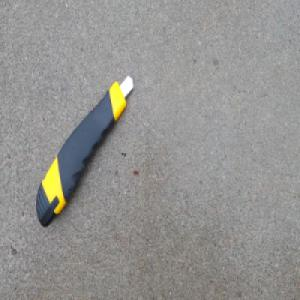Cutter: (35, 75, 133, 232)
